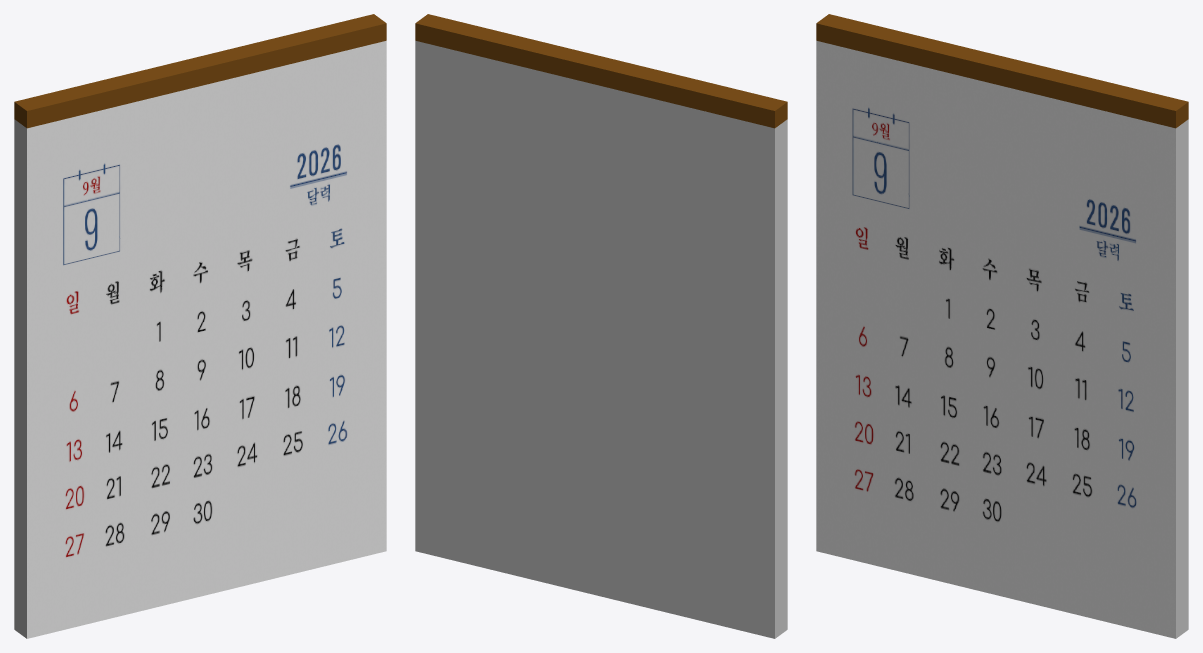
File: Chalinder3.fbx
3 renders of one model, left to right at view 1: azimuth 30°, elevation 25°; view 2: azimuth 150°, elevation 25°; view 3: azimuth 330°, elevation 25°, orthographic.
Parts seen in each view (by area): view 1: Cube.025; view 2: Cube.025; view 3: Cube.025.
Boxes of the visible parts, x1=… form: Cube.025: x1=14, y1=14, x2=386, y2=638; Cube.025: x1=415, y1=14, x2=787, y2=638; Cube.025: x1=816, y1=14, x2=1188, y2=638.
Size of the model in its own units: 46.61 by 65.37 by 2.86.
Materials: 3 (1 with a texture image).
